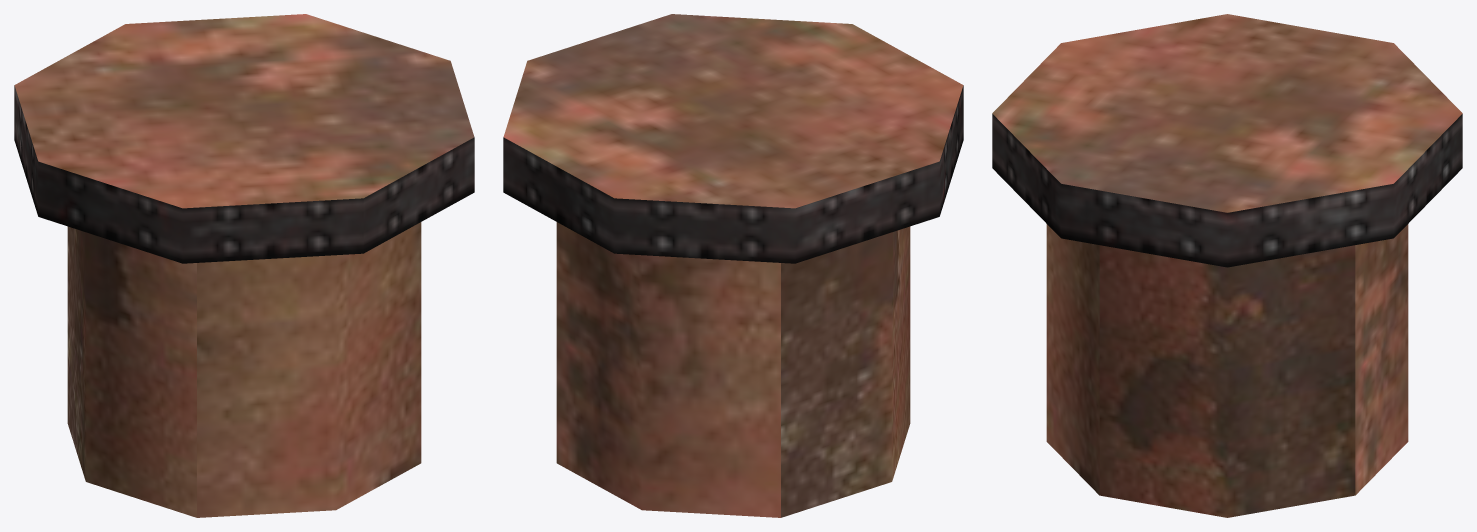
The model's file is pipeout.glb.
3 renders of one model, left to right at view 1: azimuth 30°, elevation 25°; view 2: azimuth 150°, elevation 25°; view 3: azimuth 270°, elevation 25°, orthographic.
Parts seen in each view (by area): view 1: Wall_Joint_Tubes_0; view 2: Wall_Joint_Tubes_0; view 3: Wall_Joint_Tubes_0.
Boxes of the visible parts, bbox=[...] form: Wall_Joint_Tubes_0: bbox=[14, 14, 474, 517]; Wall_Joint_Tubes_0: bbox=[503, 14, 963, 517]; Wall_Joint_Tubes_0: bbox=[992, 14, 1462, 517].
Bounding box in the file's own units: 0.5423 × 0.4172 × 0.5423.
1 material, 1 textured.
